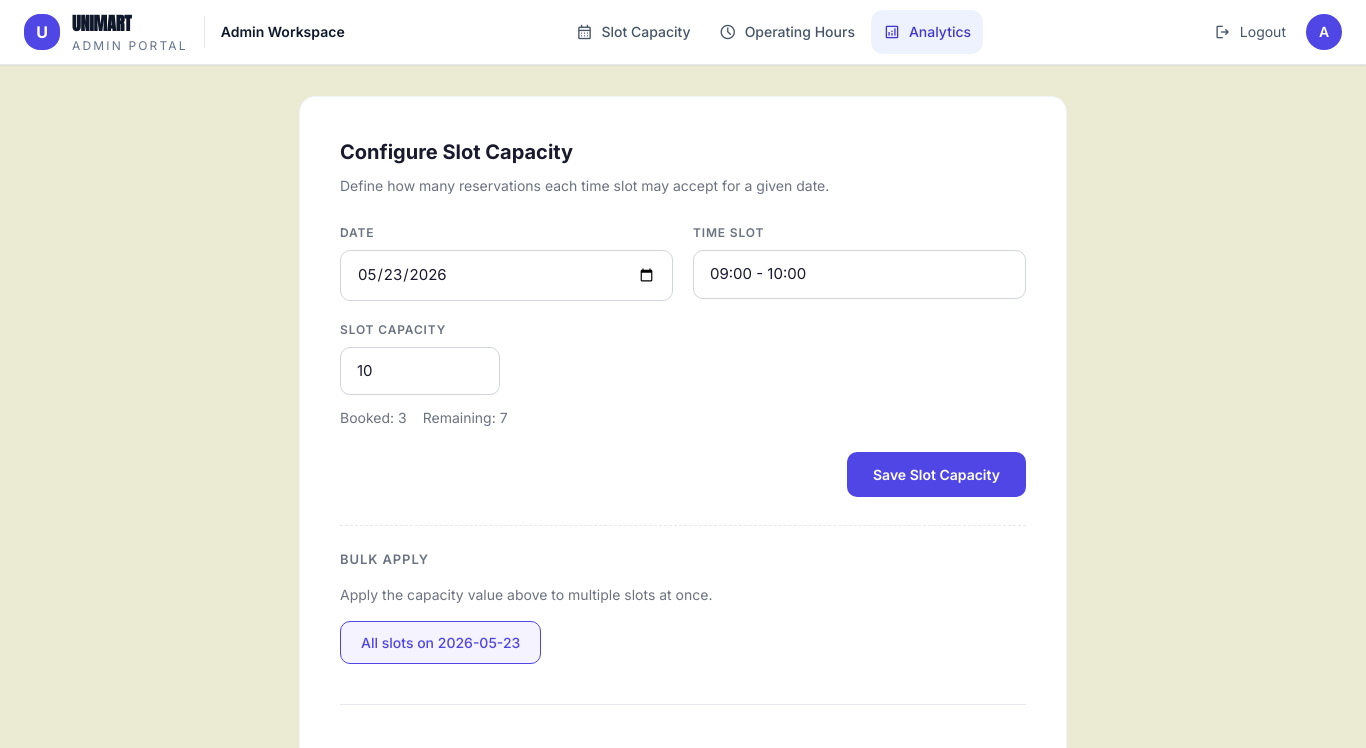
Test: AdminDashboard coverage – slot capacity › shows validation error when capacity is below bookings
Replace the text in the number field with "1". click: (420, 371)
box: 340,346 -> 500,395
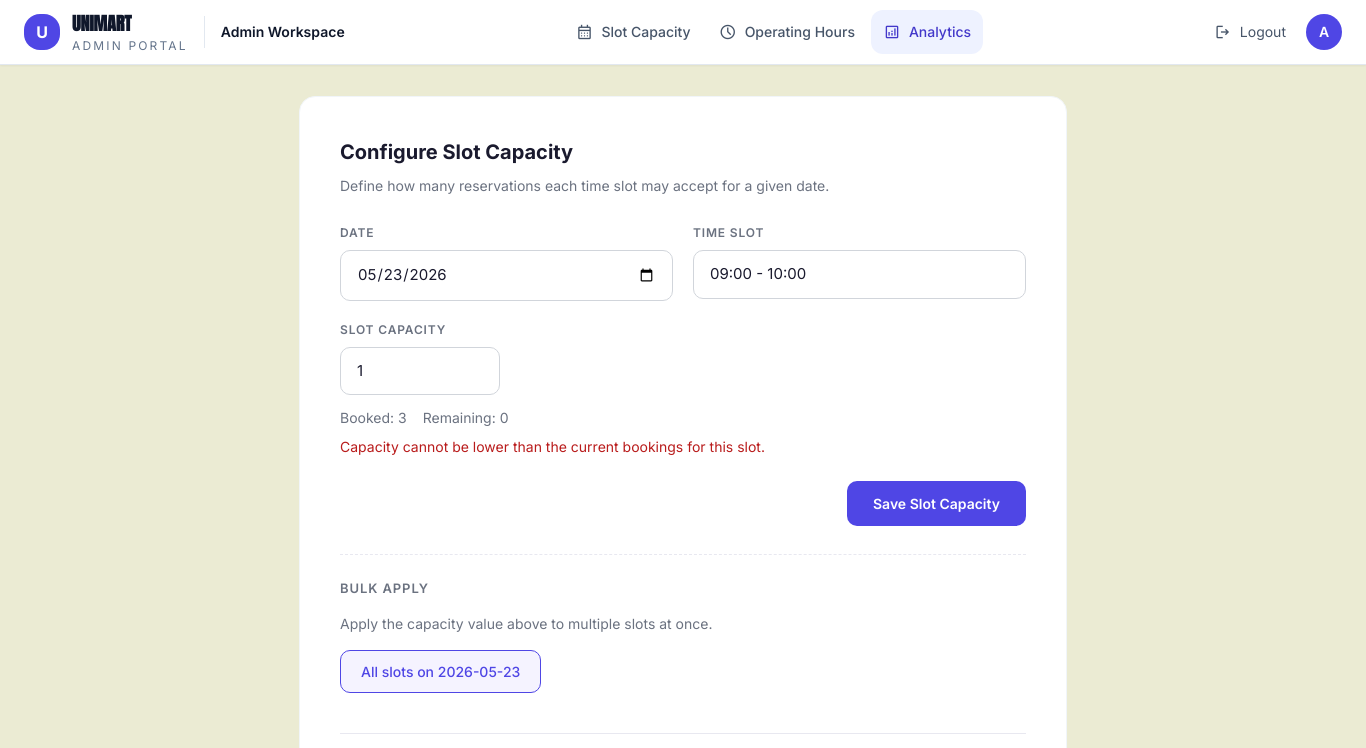
Click the button "Save Slot Capacity". click: (936, 504)
box: 847,481 -> 1026,526
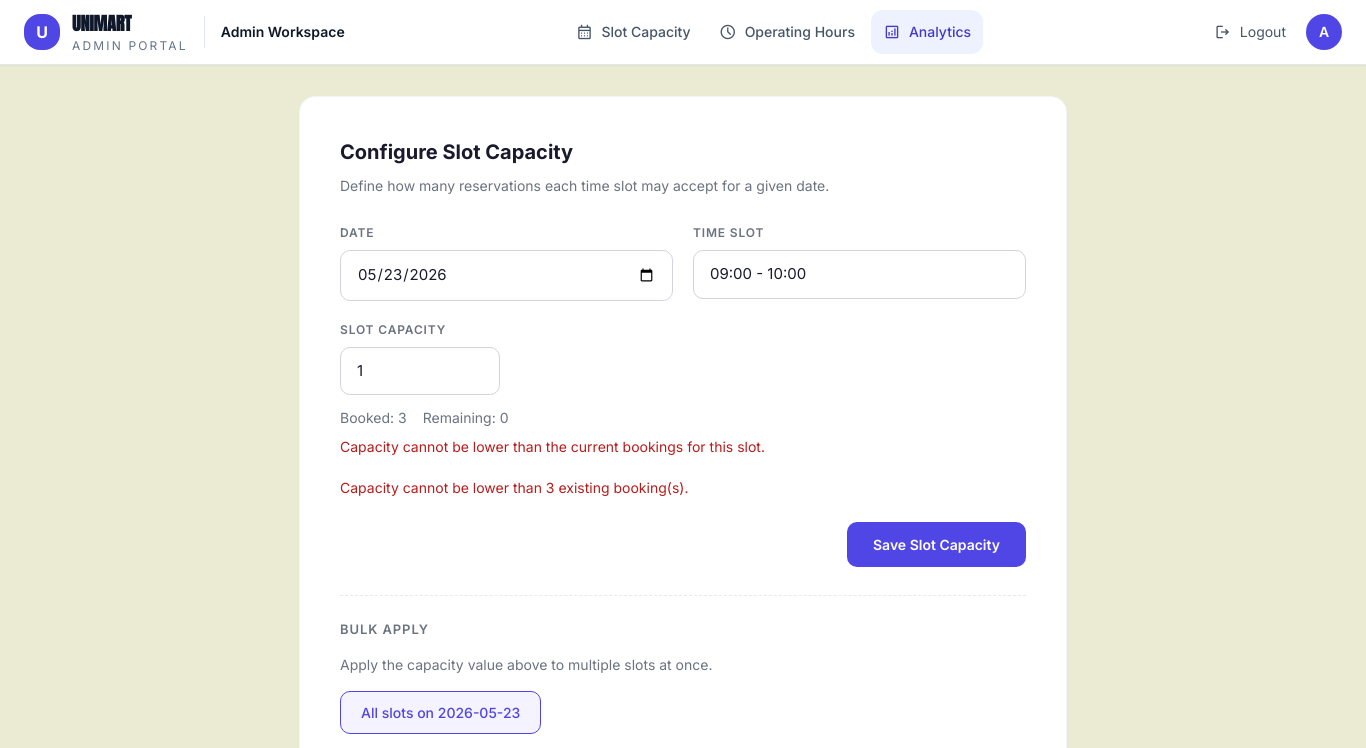
Result: the text "Capacity cannot be lower than 3 existing booking(s)." is shown at 340,479 -> 688,496
